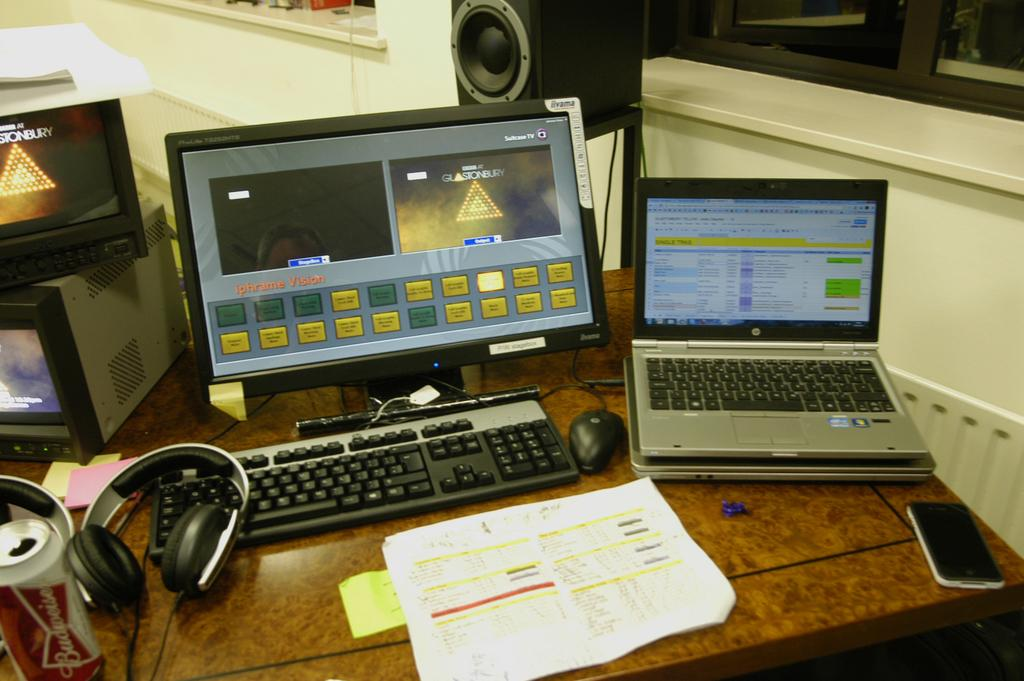Computer-keyboard: (149, 382, 581, 562), (644, 355, 895, 411)
Computer-monitor: (153, 121, 630, 440)
Laptop: (621, 187, 945, 490)
